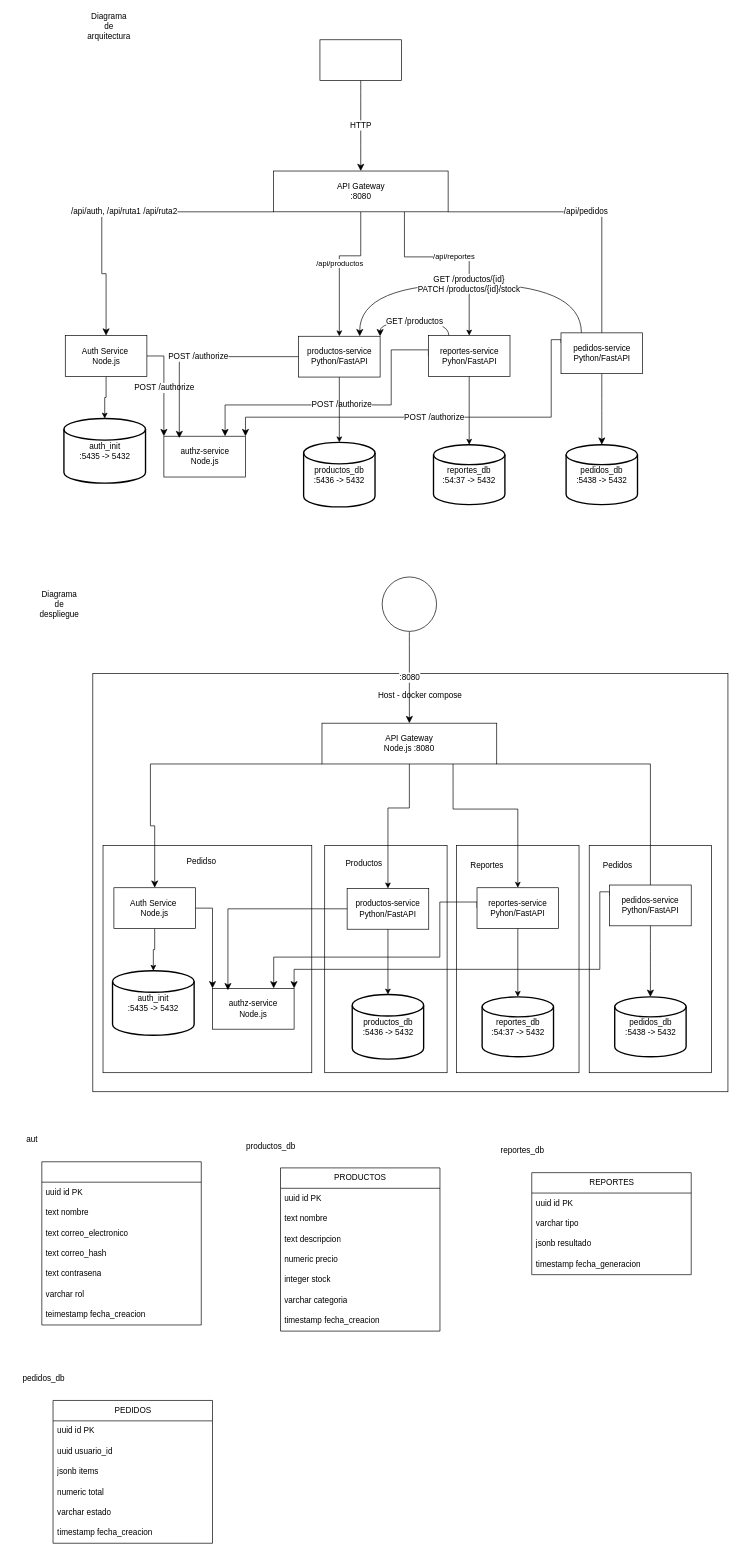
Image size: 740x1555. Some labels were removed from this diagram. The box of each missing label's shape, as (x1, y1, x2, y2) in pixels:
Cliente / Postman / Browser: (319, 39, 402, 81)
Navegador / Postman: (381, 576, 437, 631)
USUARIOS: (41, 1161, 201, 1325)
